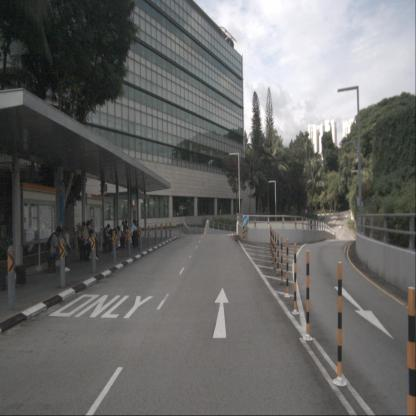human-pedestrian-adult: (47, 226, 70, 272), (57, 226, 72, 270), (84, 220, 98, 260), (77, 222, 91, 262), (87, 218, 99, 258), (102, 223, 114, 254), (119, 220, 128, 248), (122, 218, 130, 248), (111, 226, 120, 252), (130, 219, 138, 245), (132, 221, 139, 246)
